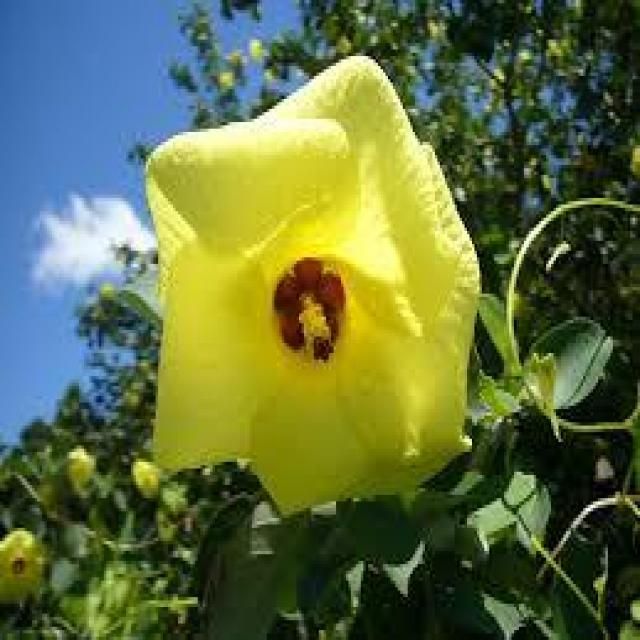organic waste: (113, 76, 483, 491)
